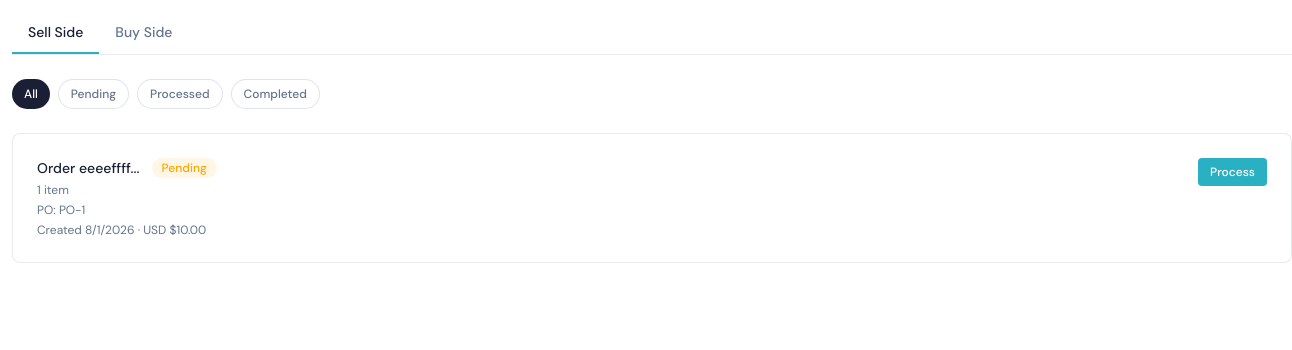
it: OrdersDashboard — process/complete report the response (SEC-web-account-2-05) › Process: a 403 shows the permission error and does not refetch
The width and height of the screenshot is (1292, 350).
Click the button "Process": click(1233, 172) [1198, 158, 1267, 186]
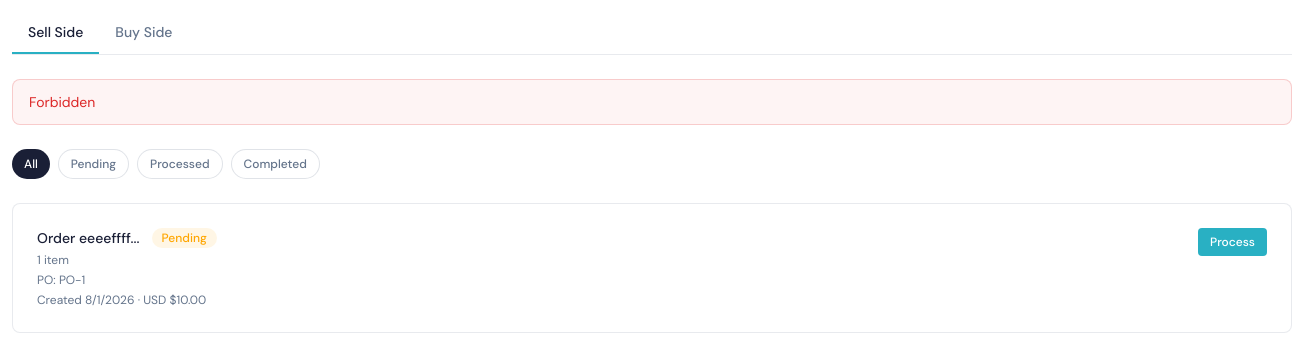
Result: the message reads "Forbidden" at [29, 93, 95, 111]
